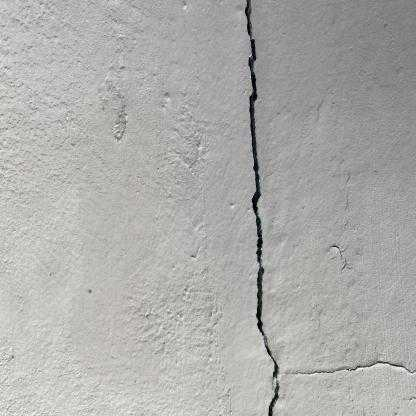crack: (245, 0, 279, 416)
